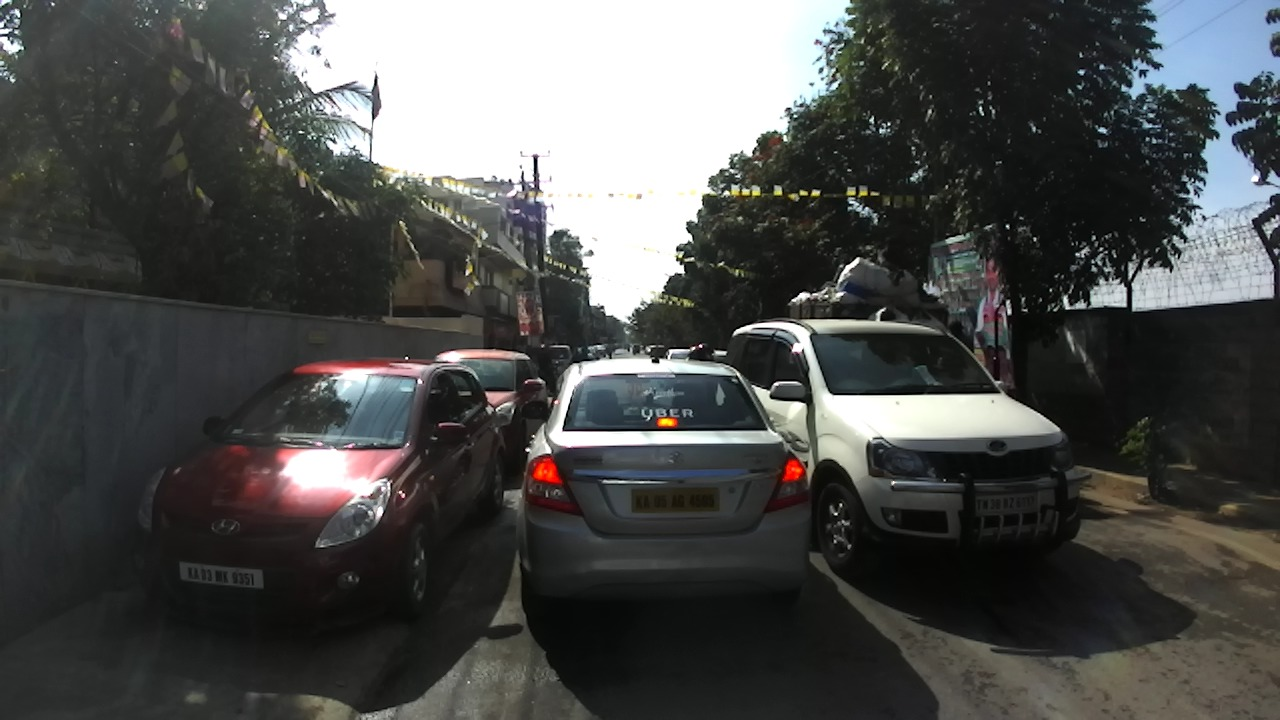autorickshaw: (634, 344, 641, 353)
bicycle: (538, 360, 564, 396)
car: (136, 355, 506, 636), (724, 317, 1092, 581), (518, 342, 813, 610), (425, 348, 548, 477), (542, 344, 574, 383), (664, 348, 698, 362), (711, 348, 729, 364), (594, 344, 606, 357), (613, 343, 621, 349)
motorcycle: (633, 349, 637, 355), (628, 348, 631, 353)
person: (947, 319, 967, 353), (606, 342, 613, 360)
rider: (537, 339, 557, 397), (832, 250, 852, 284), (686, 342, 715, 365), (831, 248, 842, 274), (686, 345, 702, 361), (569, 348, 580, 365), (579, 348, 586, 364), (587, 350, 595, 361), (633, 344, 637, 353), (625, 344, 630, 349), (627, 343, 630, 349)
vehicle fallback: (787, 256, 950, 327), (645, 344, 665, 357), (586, 345, 596, 355), (575, 346, 584, 356), (605, 344, 616, 351), (640, 344, 646, 350)
